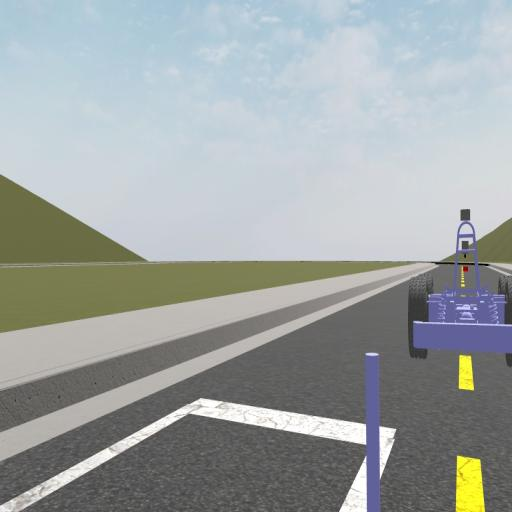ERP-42: (406, 206, 512, 370)
